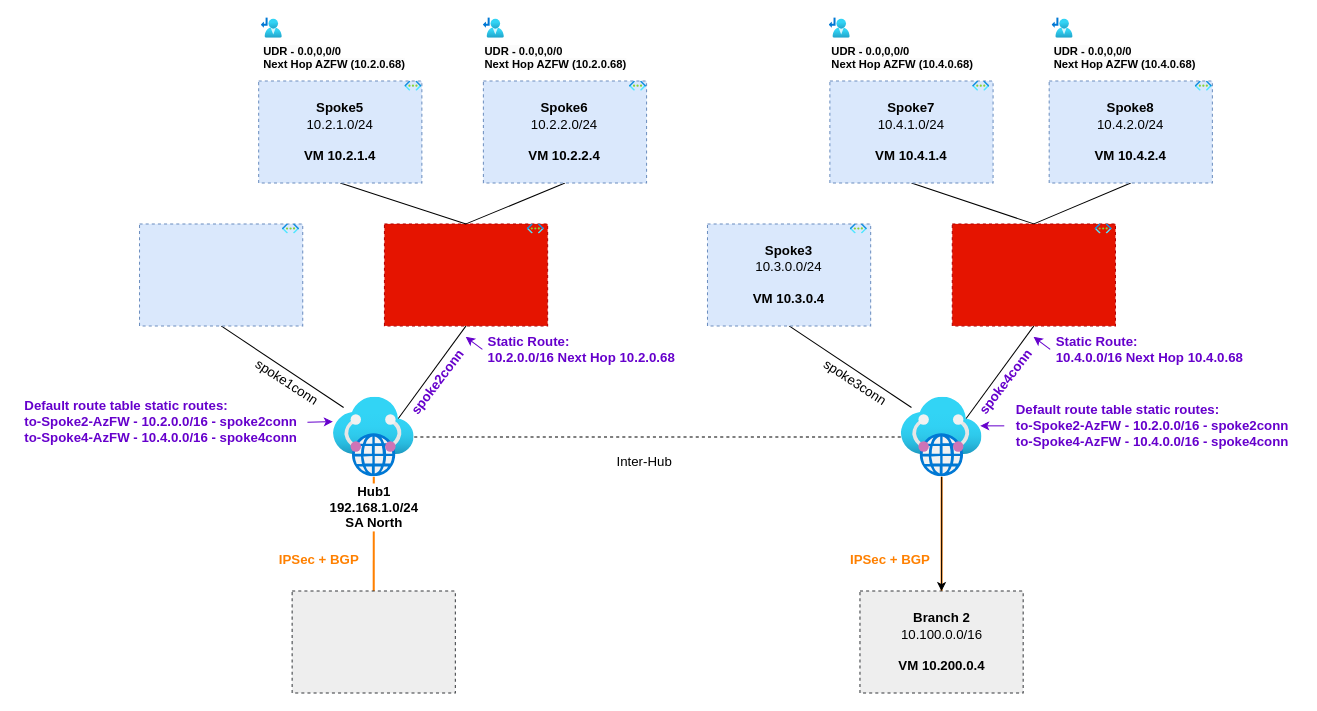
This 1317x711 diagram has some shape labels left out. The shapes that lost their labels are listed below. From the top down, each one's box as (x1, y1, x2, y2) in pixels, then its label:
(139, 223, 303, 326): Spoke1 10.1.0.0/24 VM 10.1.0.4
(383, 223, 548, 326): Spoke2 10.2.0.0/24 AZFW 10.2.0.68
(951, 223, 1115, 326): Spoke4 10.4.0.0/24 AZFW 10.4.0.68
(901, 397, 982, 476): Hub2 192.168.2.0/24 North Europe
(291, 590, 455, 693): Branch 1 10.100.0.0/16 VM 10.100.0.4
